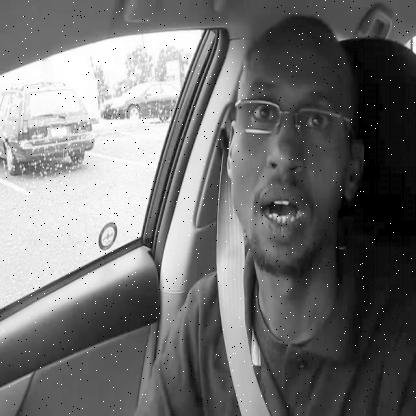seatbelt: (203, 13, 368, 412)
